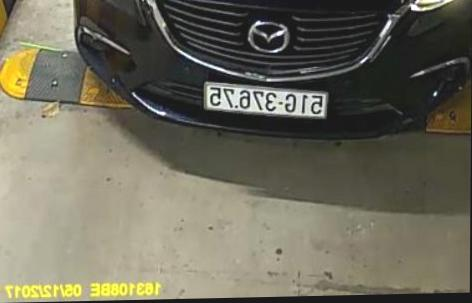License_Plate: (191, 82, 338, 118)
